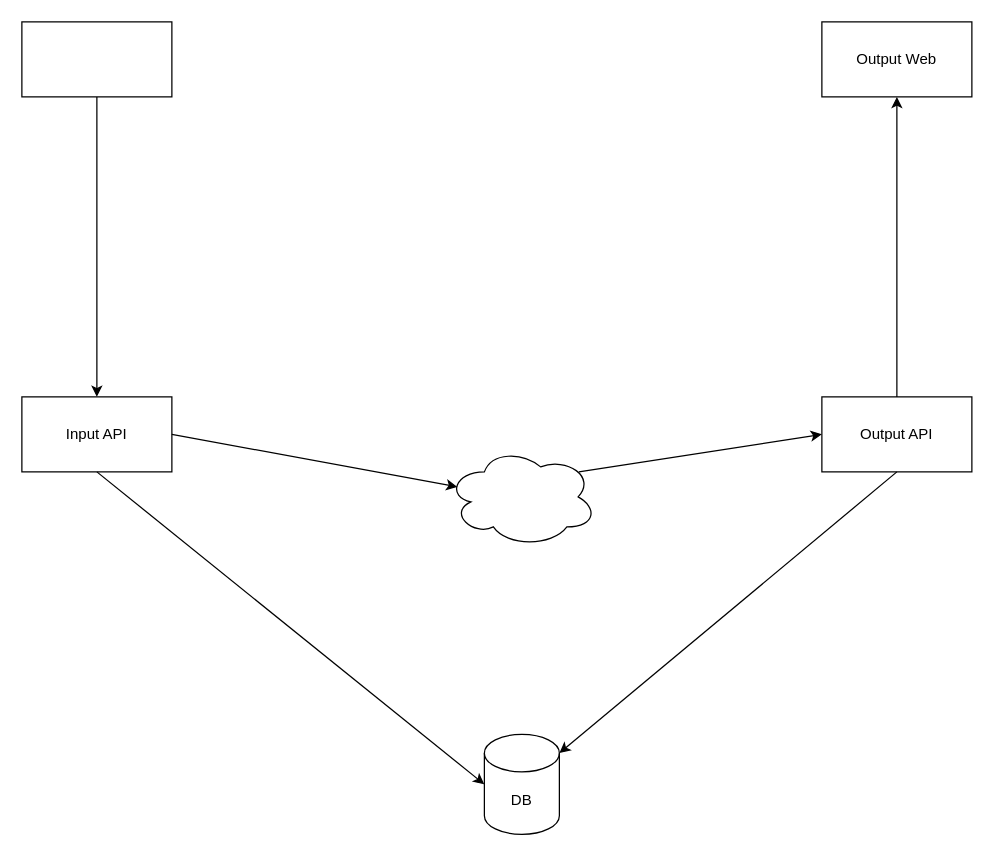
Some shapes in this 994 by 856 pixel diagram are drawn without their labels. Here are the shapes that lost their labels. From the top down, the centre of each, then its label:
At pixel 96 59: "Input Web".
At pixel 521 496: "MQTT".
